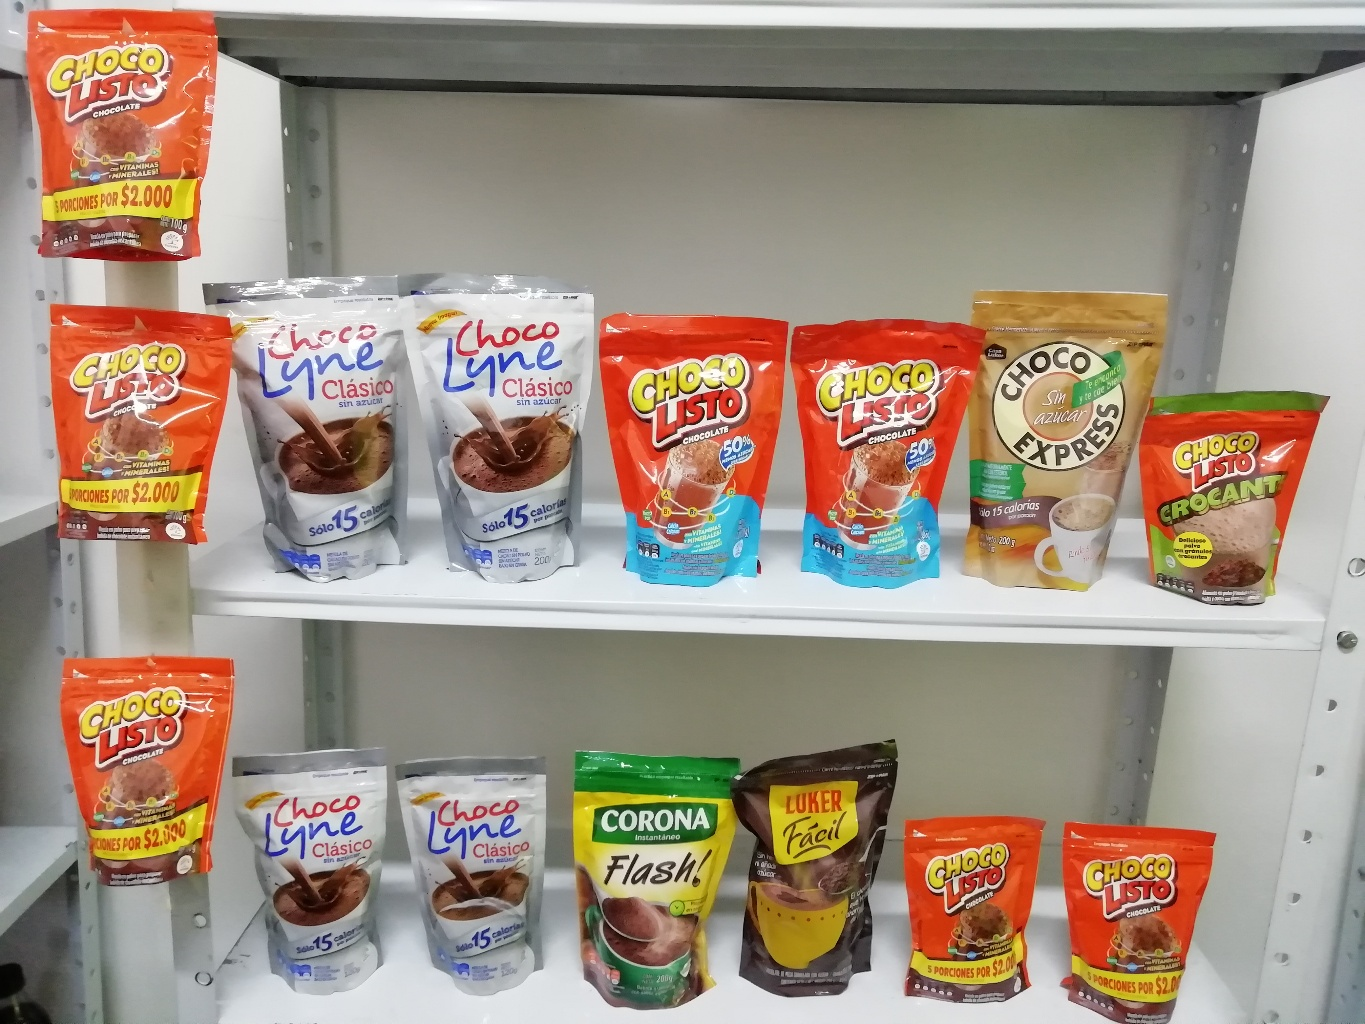COL0170102DYP10000: (1134, 383, 1335, 614)
COL0170104DYP20000: (786, 309, 982, 591)
